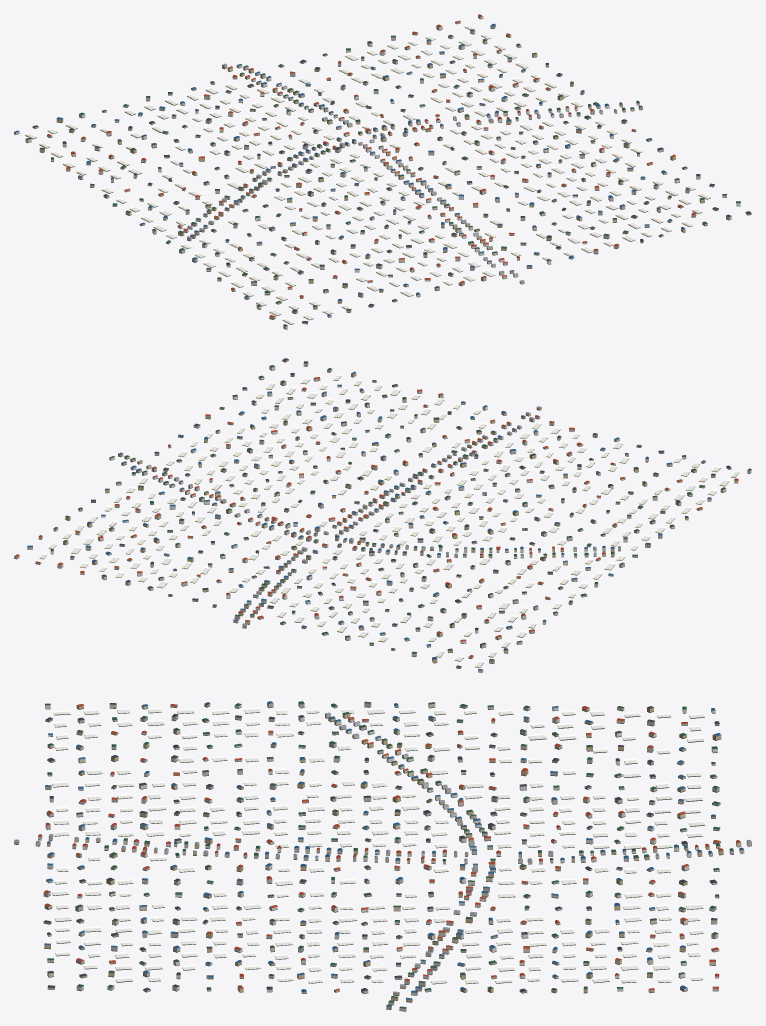
File: buildings_T_W08_N03.glb
The picture shows the model from 3 angles, top to bottom: view 1: azimuth 30°, elevation 25°; view 2: azimuth 150°, elevation 25°; view 3: azimuth 270°, elevation 25°; orthographic projection. The views are drawn at different scales.
Visible parts, largest first — view 1: T_W08_N03_roofs_agri_greenhouse_arch, T_W08_N03_slope_seating_foundations, T_W08_N03_walls_wall_french_ochre_villa, T_W08_N03_walls_wall_pastel_sand_gray, T_W08_N03_walls_wall_dalat_cream_stucco, T_W08_N03_walls_wall_modern_warm_white, T_W08_N03_roofs_roof_pine_green_hip, T_W08_N03_roofs_roof_highland_blue_gable, T_W08_N03_roofs_roof_terracotta_gable, T_W08_N03_roofs_roof_slate_French_villa_hip; view 2: T_W08_N03_roofs_agri_greenhouse_arch, T_W08_N03_slope_seating_foundations, T_W08_N03_walls_wall_pastel_sand_gray, T_W08_N03_walls_wall_french_ochre_villa, T_W08_N03_walls_wall_dalat_cream_stucco, T_W08_N03_walls_wall_modern_warm_white, T_W08_N03_roofs_roof_pine_green_hip, T_W08_N03_roofs_roof_highland_blue_gable, T_W08_N03_roofs_roof_terracotta_gable, T_W08_N03_roofs_roof_slate_French_villa_hip; view 3: T_W08_N03_roofs_agri_greenhouse_arch, T_W08_N03_slope_seating_foundations, T_W08_N03_walls_wall_pastel_sand_gray, T_W08_N03_walls_wall_french_ochre_villa, T_W08_N03_walls_wall_dalat_cream_stucco, T_W08_N03_walls_wall_modern_warm_white, T_W08_N03_roofs_roof_pine_green_hip, T_W08_N03_roofs_roof_highland_blue_gable, T_W08_N03_roofs_roof_terracotta_gable, T_W08_N03_roofs_roof_slate_French_villa_hip, T_W08_N03_roofs_roof_zinc_silver_gable.
Part boxes in pixels (left/top/right/bottom): T_W08_N03_roofs_agri_greenhouse_arch: left=25, top=24, right=710, bottom=324; T_W08_N03_slope_seating_foundations: left=14, top=17, right=751, bottom=329; T_W08_N03_walls_wall_french_ochre_villa: left=39, top=34, right=751, bottom=319; T_W08_N03_walls_wall_pastel_sand_gray: left=47, top=25, right=696, bottom=323; T_W08_N03_walls_wall_dalat_cream_stucco: left=25, top=16, right=731, bottom=312; T_W08_N03_walls_wall_modern_warm_white: left=14, top=30, right=740, bottom=329; T_W08_N03_roofs_roof_pine_green_hip: left=26, top=29, right=740, bottom=310; T_W08_N03_roofs_roof_highland_blue_gable: left=14, top=23, right=689, bottom=316; T_W08_N03_roofs_roof_terracotta_gable: left=47, top=14, right=696, bottom=317; T_W08_N03_roofs_roof_slate_French_villa_hip: left=33, top=41, right=751, bottom=326; T_W08_N03_roofs_agri_greenhouse_arch: left=39, top=374, right=739, bottom=667; T_W08_N03_slope_seating_foundations: left=14, top=360, right=751, bottom=672; T_W08_N03_walls_wall_pastel_sand_gray: left=27, top=378, right=731, bottom=658; T_W08_N03_walls_wall_french_ochre_villa: left=38, top=359, right=738, bottom=662; T_W08_N03_walls_wall_dalat_cream_stucco: left=14, top=362, right=726, bottom=668; T_W08_N03_walls_wall_modern_warm_white: left=50, top=366, right=751, bottom=672; T_W08_N03_roofs_roof_pine_green_hip: left=50, top=365, right=725, bottom=660; T_W08_N03_roofs_roof_highland_blue_gable: left=27, top=371, right=711, bottom=670; T_W08_N03_roofs_roof_terracotta_gable: left=14, top=377, right=738, bottom=657; T_W08_N03_roofs_roof_slate_French_villa_hip: left=78, top=358, right=751, bottom=667; T_W08_N03_roofs_agri_greenhouse_arch: left=52, top=707, right=705, bottom=983; T_W08_N03_slope_seating_foundations: left=14, top=705, right=751, bottom=1011; T_W08_N03_walls_wall_pastel_sand_gray: left=43, top=702, right=751, bottom=993; T_W08_N03_walls_wall_french_ochre_villa: left=14, top=704, right=723, bottom=1009; T_W08_N03_walls_wall_dalat_cream_stucco: left=35, top=703, right=744, bottom=1004; T_W08_N03_walls_wall_modern_warm_white: left=38, top=704, right=719, bottom=1010; T_W08_N03_roofs_roof_pine_green_hip: left=47, top=701, right=733, bottom=1008; T_W08_N03_roofs_roof_highland_blue_gable: left=44, top=701, right=743, bottom=1006; T_W08_N03_roofs_roof_terracotta_gable: left=38, top=704, right=740, bottom=990; T_W08_N03_roofs_roof_slate_French_villa_hip: left=43, top=702, right=719, bottom=991; T_W08_N03_roofs_roof_zinc_silver_gable: left=14, top=712, right=751, bottom=993.
Size of the model in its own units: 1858 by 27.49 by 1911.
